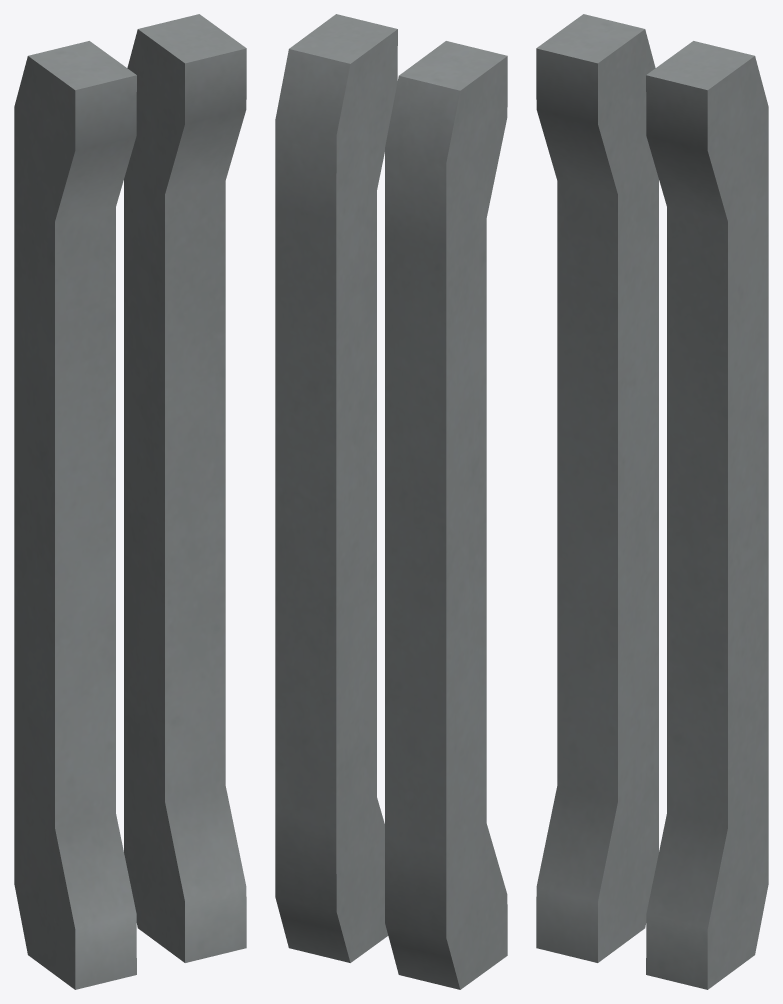
File: Pfb_JALB_WallPart.fbx
3 views of the same model, side by side, from view 1: azimuth 30°, elevation 25°; view 2: azimuth 150°, elevation 25°; view 3: azimuth 330°, elevation 25° (orthographic).
Visible parts, largest first — view 1: MAT_Roof; view 2: MAT_Roof; view 3: MAT_Roof.
Part boxes in pixels (box(x1,y1,x2,y2)): MAT_Roof: box(14, 14, 246, 989); MAT_Roof: box(275, 14, 507, 989); MAT_Roof: box(536, 14, 768, 989).
Bounding box in the file's own units: 0.7961 × 3.99 × 0.4921.
Materials: 1 (1 with a texture image).
